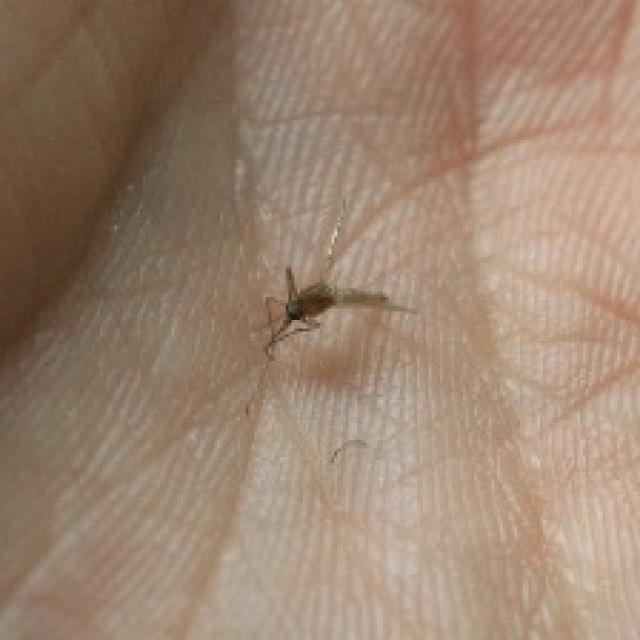culex: (257, 194, 417, 357)
